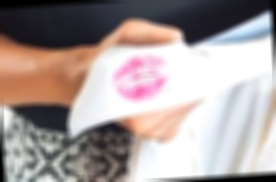lipstick: (111, 57, 175, 102)
